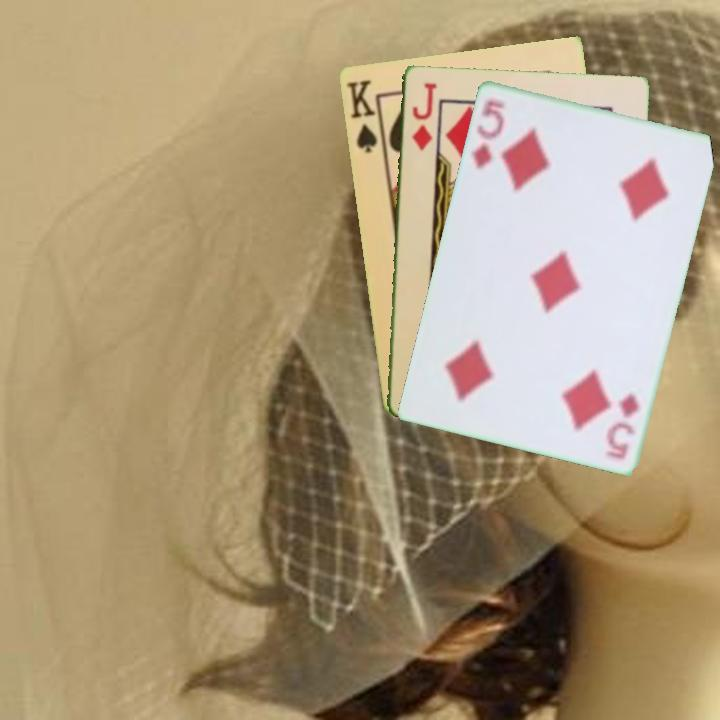5d: (467, 96, 507, 171), (602, 389, 642, 462)
Jd: (408, 78, 439, 153)
Ks: (342, 75, 379, 156)
